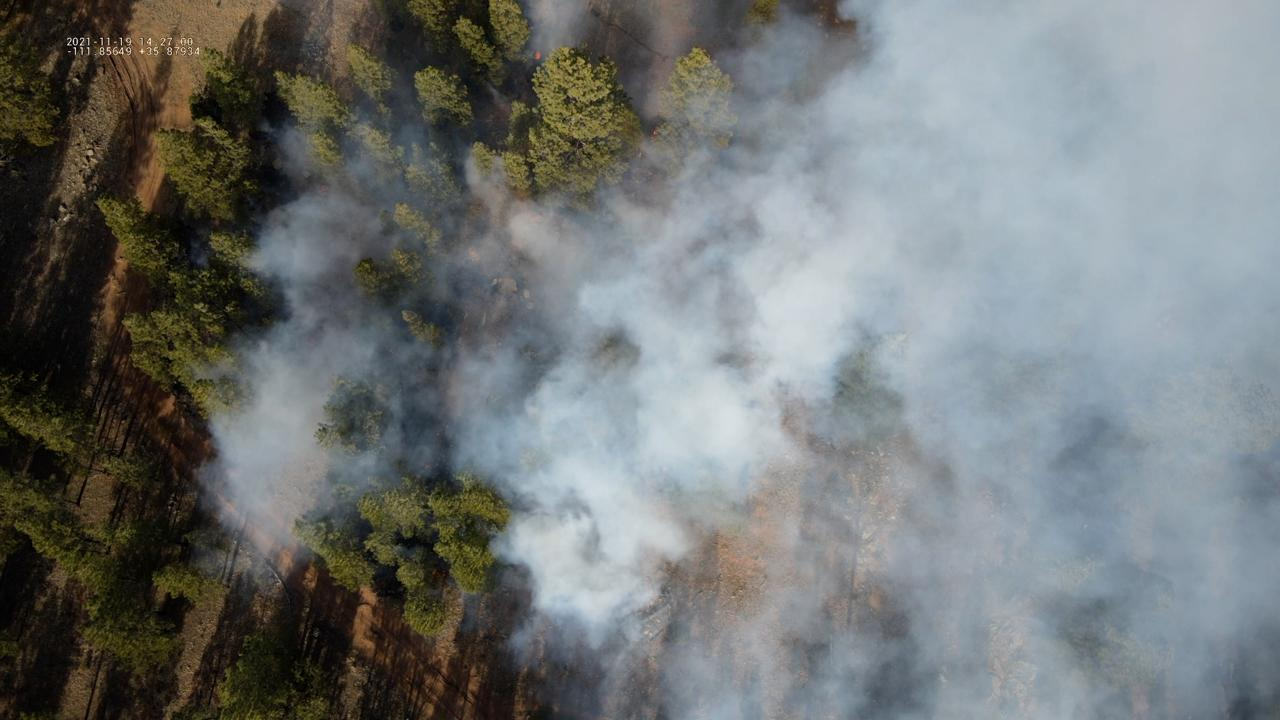fire: (533, 50, 542, 61)
smoke: (177, 0, 1280, 720)
